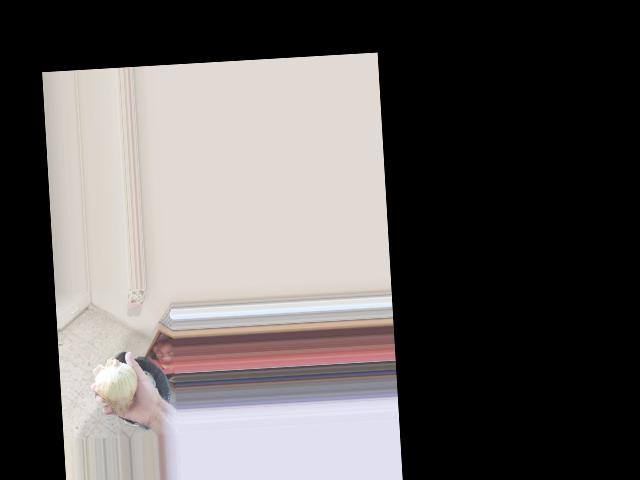onion: (95, 358, 141, 414)
